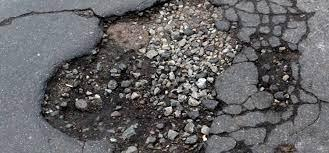alligator-crack: (229, 0, 321, 150)
pothole: (39, 0, 243, 153), (254, 40, 301, 97)
